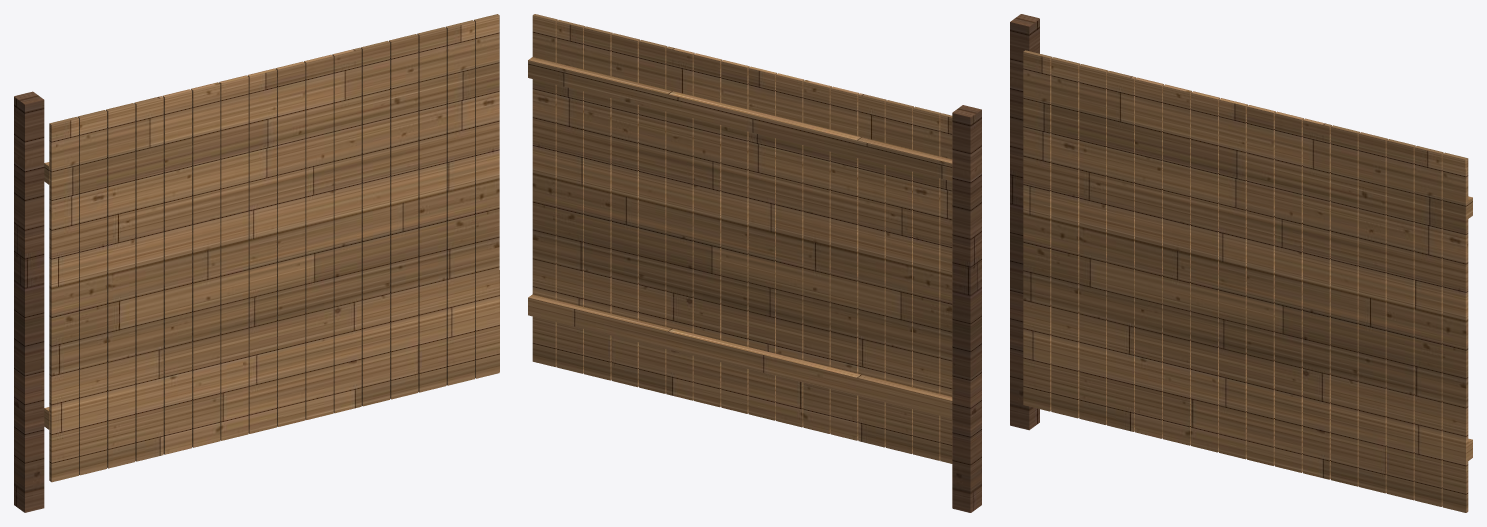
Rendered from fence.glb.
The picture shows the model from 3 angles, left to right: view 1: azimuth 30°, elevation 25°; view 2: azimuth 150°, elevation 25°; view 3: azimuth 330°, elevation 25°; orthographic projection. The views are drawn at different scales.
Visible parts, largest first — view 1: fence_wood, fence_dkwood; view 2: fence_wood, fence_dkwood; view 3: fence_wood, fence_dkwood.
Part boxes in pixels (left/top/right/bottom): fence_wood: left=44, top=14, right=499, bottom=482; fence_dkwood: left=14, top=91, right=44, bottom=512; fence_wood: left=528, top=14, right=952, bottom=463; fence_dkwood: left=952, top=105, right=981, bottom=512; fence_wood: left=1023, top=50, right=1472, bottom=512; fence_dkwood: left=1010, top=14, right=1039, bottom=430.
Size of the model in its own units: 2.4 by 2 by 0.16.
2 materials, 2 textured.
